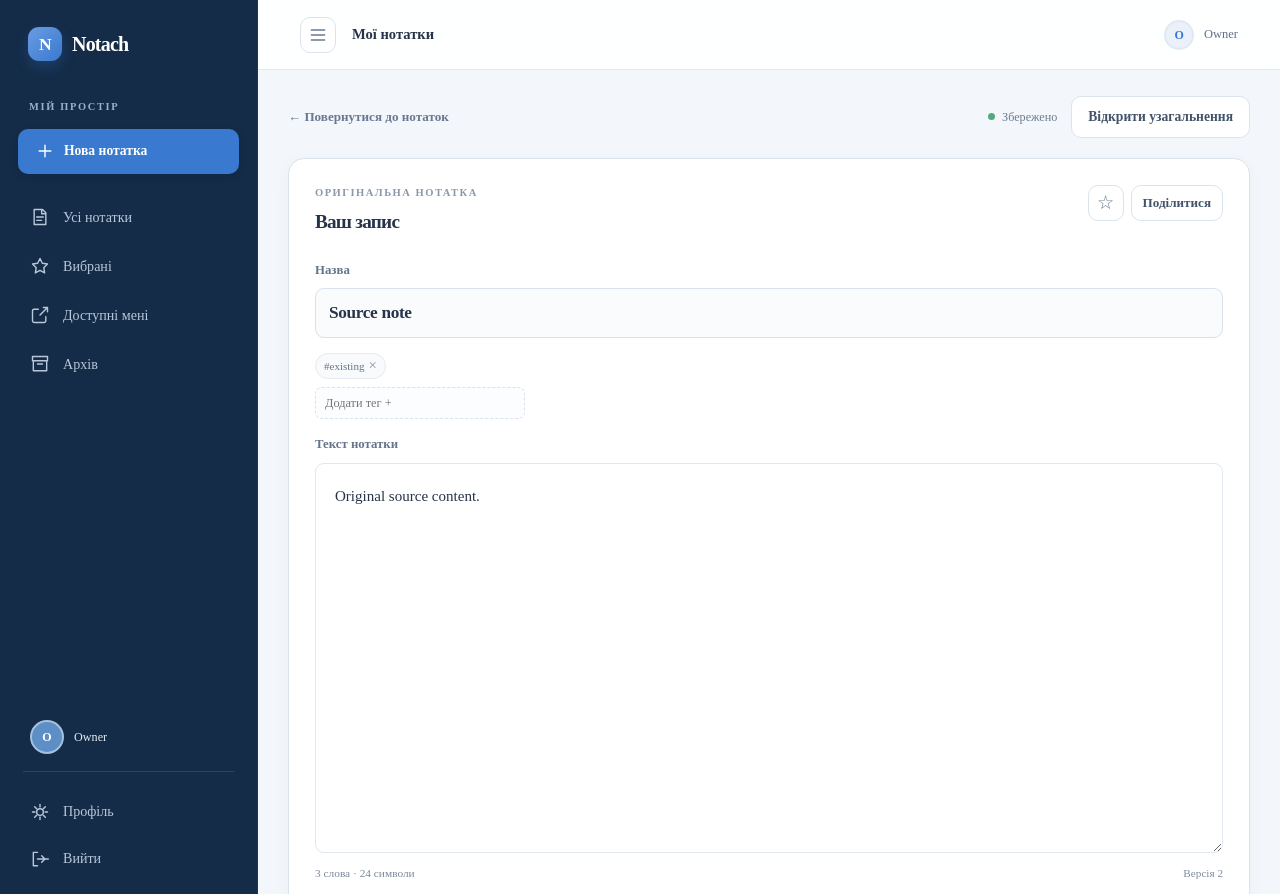
Test: note summary workspace › dismisses a generation error and keeps the editor and retry action available
expect the field showing "Source note" is shown: met, box [315, 288, 1223, 338]
expect the heading "Асистент узагальнення" is not shown: met
Click the button "Відкрити узагальнення" at x=1161, y=117, box [1071, 96, 1250, 138]
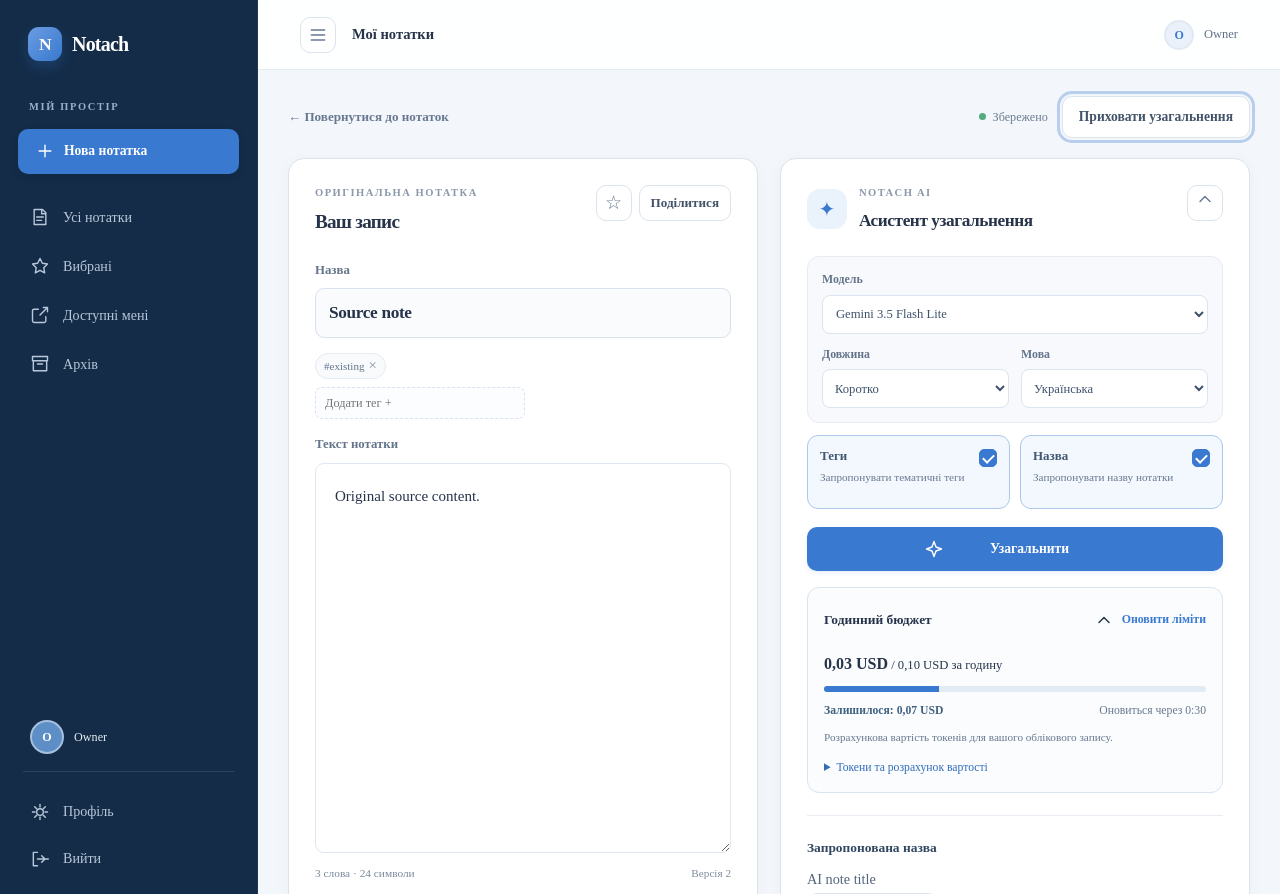
Click the button "Узагальнити" at x=1015, y=549, box [807, 527, 1223, 571]
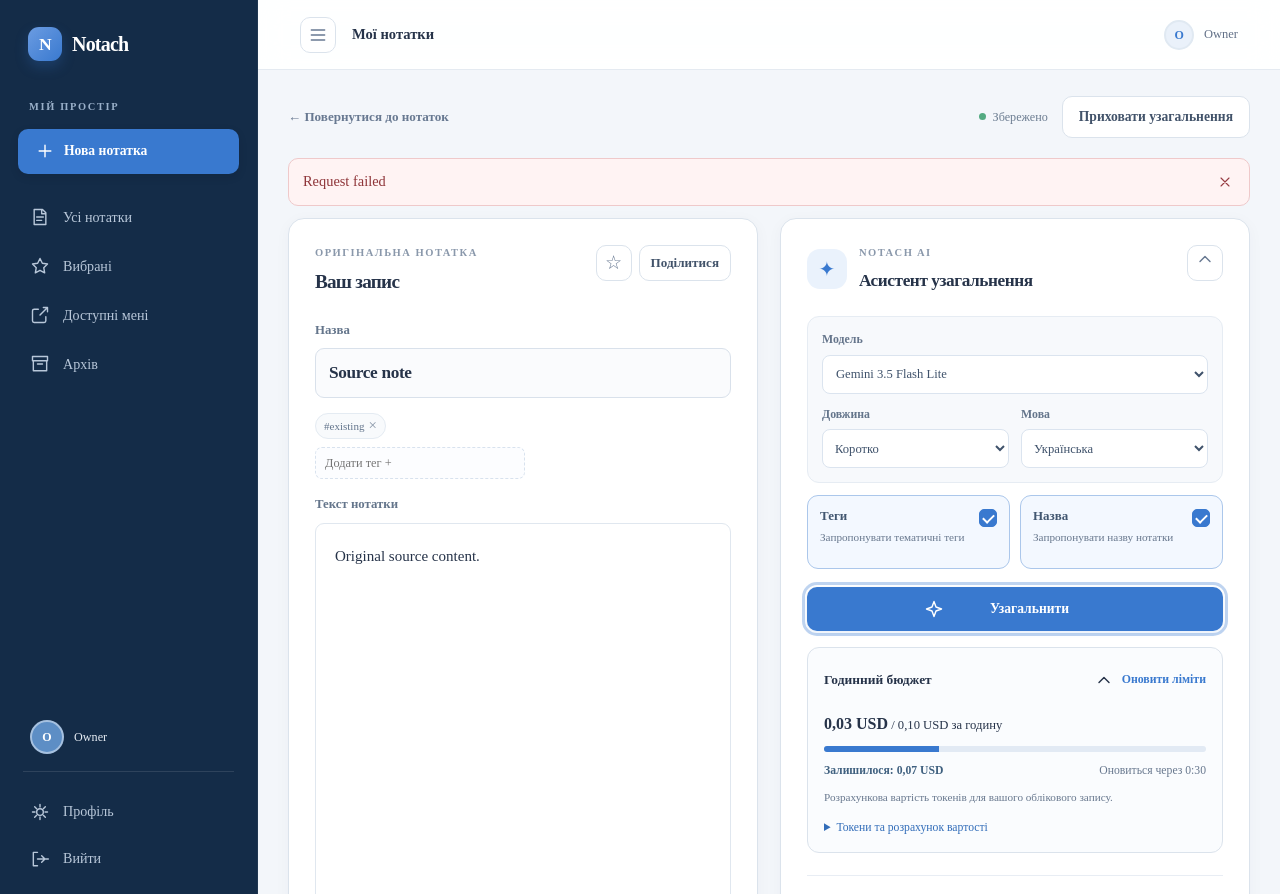
expect the message "Request failed" is shown: met, box [288, 158, 1250, 206]
Click the button named "Закрити помилку" at x=1225, y=182, box [1211, 168, 1239, 196]
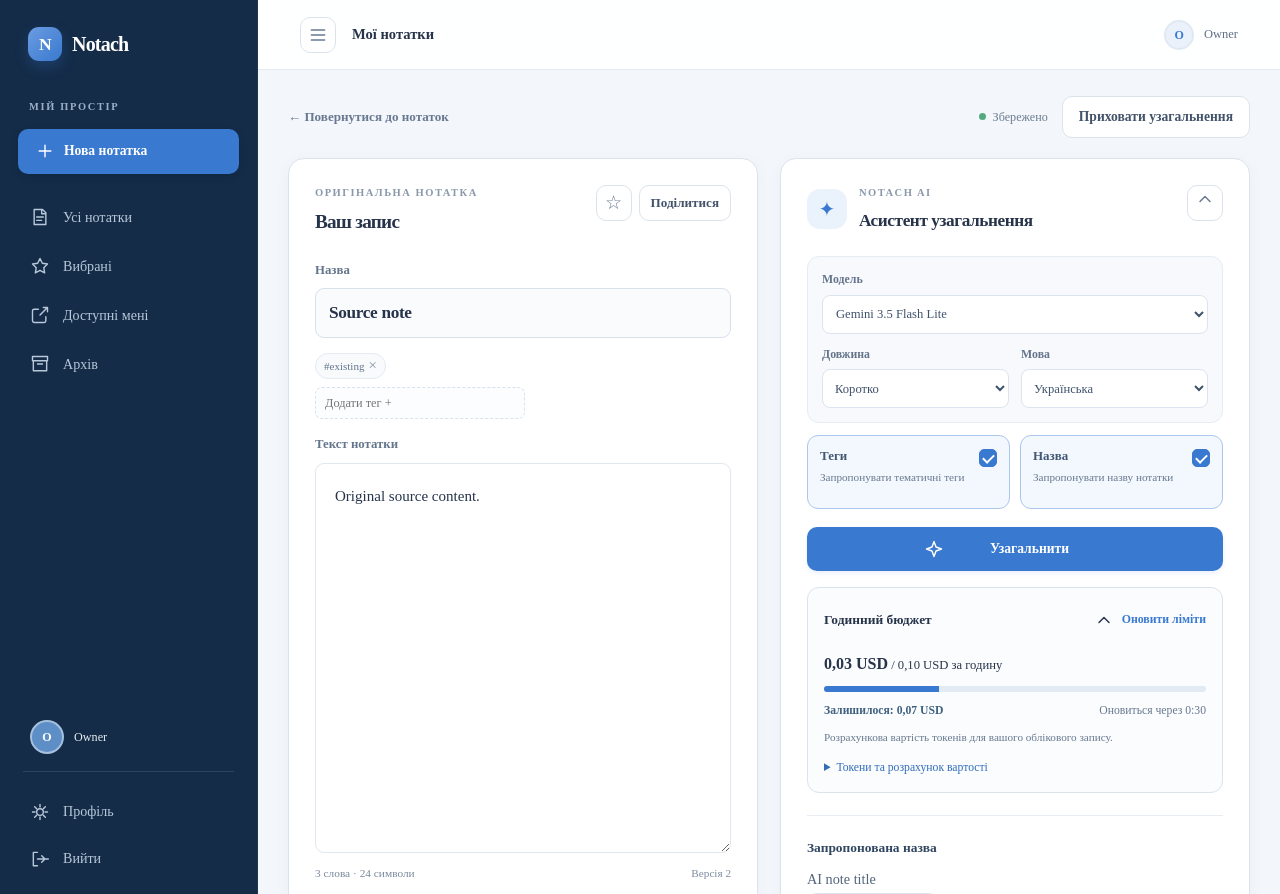
expect the text box labelled "Текст нотатки" holds "Original source content.": met, box [315, 463, 731, 853]
expect the button "Узагальнити" is enabled: met, box [807, 527, 1223, 571]
expect the message "Request failed" is gone: met
